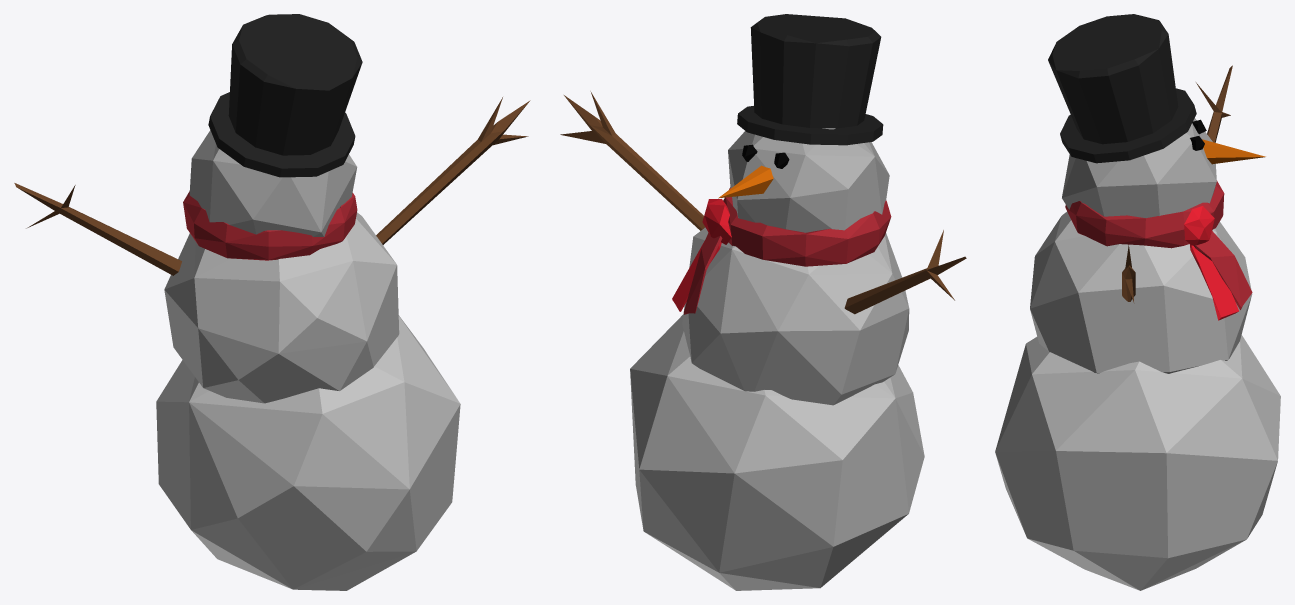
File: snowman.fbx
3 renders of one model, left to right at view 1: azimuth 30°, elevation 25°; view 2: azimuth 150°, elevation 25°; view 3: azimuth 270°, elevation 25°, orthographic. The views are drawn at different scales.
Parts seen in each view (by area): view 1: Sphere.003, Sphere.004, Cylinder.004, Sphere.005, Torus.001, Cylinder.003, Cylinder.002; view 2: Sphere.003, Sphere.004, Cylinder.004, Sphere.005, Torus.001, Cylinder.003, Cylinder.002, Cube.008, Icosphere.001, Cone.008, Cube.007; view 3: Sphere.003, Sphere.004, Cylinder.004, Sphere.005, Torus.001, Cube.008, Cube.007, Icosphere.001, Cone.008, Cylinder.002, Cylinder.003.
Part boxes in pixels (<box>): Sphere.003: <box>156,315,460,590</box>; Sphere.004: <box>164,212,399,403</box>; Cylinder.004: <box>208,14,362,177</box>; Sphere.005: <box>189,130,357,236</box>; Torus.001: <box>183,191,357,260</box>; Cylinder.003: <box>376,97,530,244</box>; Cylinder.002: <box>14,183,181,275</box>; Sphere.003: <box>630,314,924,590</box>; Sphere.004: <box>682,227,909,405</box>; Cylinder.004: <box>737,14,883,145</box>; Sphere.005: <box>728,128,889,232</box>; Torus.001: <box>723,187,891,266</box>; Cylinder.003: <box>560,91,705,230</box>; Cylinder.002: <box>844,230,966,314</box>; Cube.008: <box>683,233,722,314</box>; Icosphere.001: <box>702,199,731,244</box>; Cone.008: <box>718,165,773,198</box>; Cube.007: <box>672,241,721,311</box>; Sphere.003: <box>995,335,1280,590</box>; Sphere.004: <box>1030,211,1252,373</box>; Cylinder.004: <box>1048,14,1196,163</box>; Sphere.005: <box>1062,118,1216,217</box>; Torus.001: <box>1065,180,1224,248</box>; Cube.008: <box>1194,231,1252,309</box>; Cube.007: <box>1189,244,1238,320</box>; Icosphere.001: <box>1184,206,1214,245</box>; Cone.008: <box>1202,139,1265,164</box>; Cylinder.002: <box>1196,65,1232,142</box>; Cylinder.003: <box>1122,245,1135,303</box>.
Size of the model in its own units: 188 by 220 by 107.
